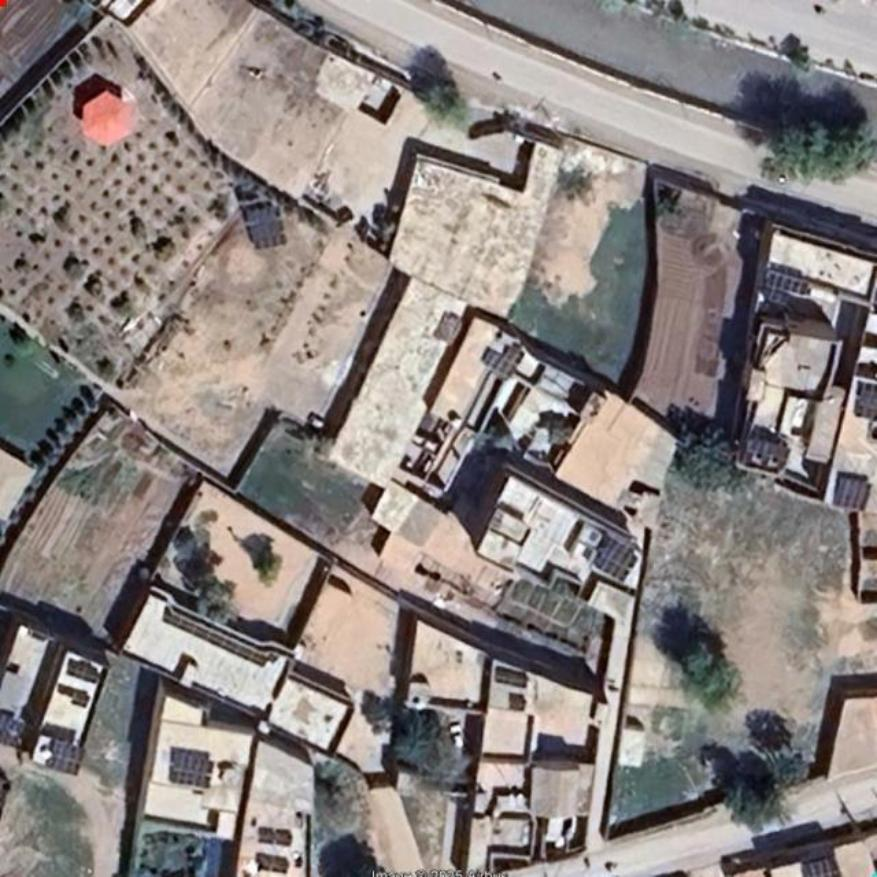Solarpanel: (595, 538, 641, 583), (168, 754, 215, 789), (249, 206, 284, 249), (46, 739, 86, 774), (832, 475, 872, 509), (803, 856, 834, 876), (859, 385, 876, 419)
